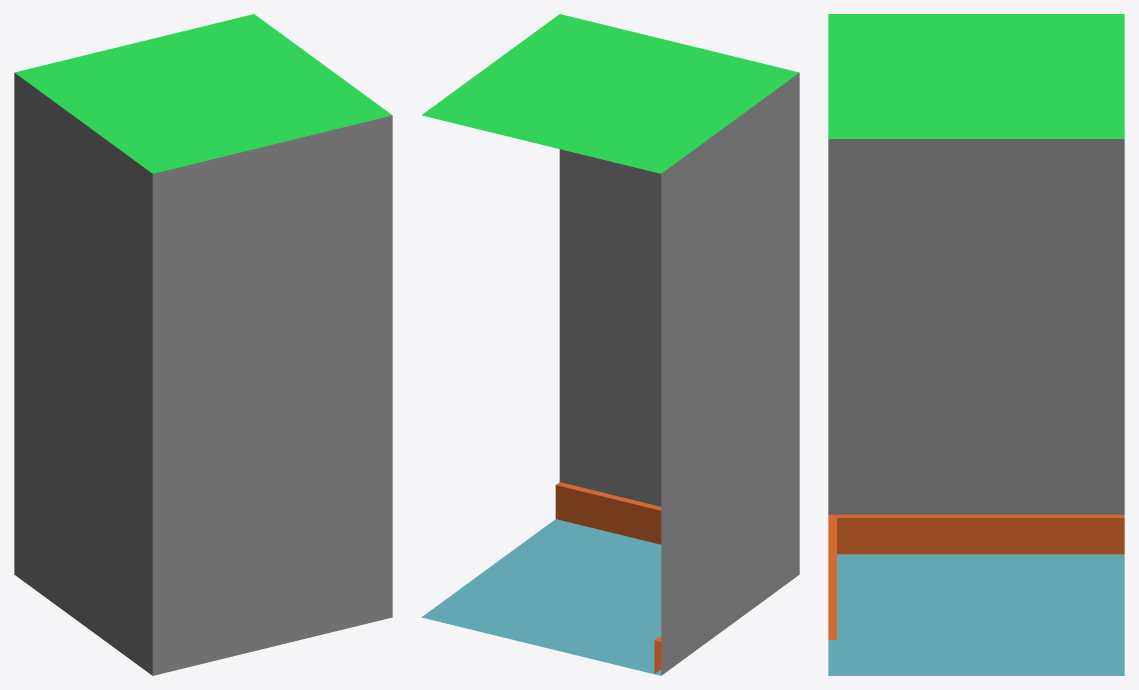
Rendered from ModuleA_corner2.FBX.
3 views of the same model, side by side, from view 1: azimuth 30°, elevation 25°; view 2: azimuth 150°, elevation 25°; view 3: azimuth 270°, elevation 25° (orthographic). The views are drawn at different scales.
Visible parts, largest first — view 1: ModuleA_wall_07, ModuleA_roof_09; view 2: ModuleA_wall_07, ModuleA_roof_09, ModuleA_floor_09, ModuleA_skboard_08; view 3: ModuleA_wall_07, ModuleA_roof_09, ModuleA_floor_09, ModuleA_skboard_08.
Boxes of the visible parts, bbox=[...] form: ModuleA_wall_07: bbox=[14, 73, 392, 675]; ModuleA_roof_09: bbox=[14, 14, 392, 173]; ModuleA_wall_07: bbox=[559, 73, 799, 675]; ModuleA_roof_09: bbox=[421, 14, 799, 173]; ModuleA_floor_09: bbox=[421, 519, 661, 675]; ModuleA_skboard_08: bbox=[555, 482, 661, 673]; ModuleA_wall_07: bbox=[828, 139, 1124, 514]; ModuleA_roof_09: bbox=[828, 14, 1124, 138]; ModuleA_floor_09: bbox=[828, 554, 1124, 675]; ModuleA_skboard_08: bbox=[828, 514, 1124, 639].
Size of the model in its own units: 39.37 by 39.37 by 78.74.
